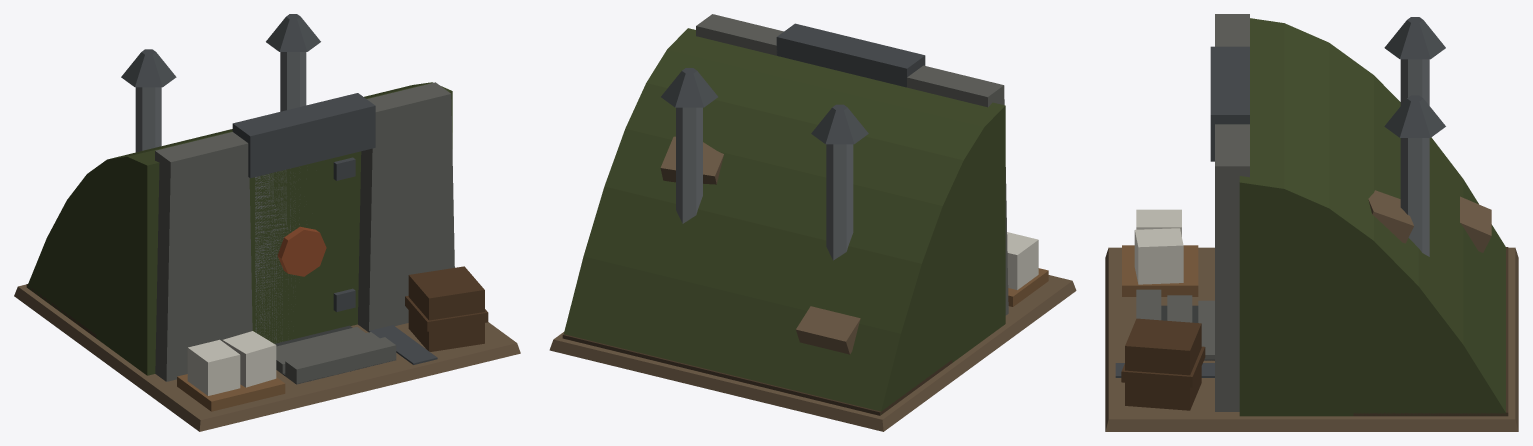
The model's file is cold_cellar_l2.glb.
3 renders of one model, left to right at view 1: azimuth 30°, elevation 25°; view 2: azimuth 150°, elevation 25°; view 3: azimuth 270°, elevation 25°, orthographic. The views are drawn at different scales.
Parts seen in each view (by area): view 1: cold_cellar_l2_mesh; view 2: cold_cellar_l2_mesh; view 3: cold_cellar_l2_mesh.
Part boxes in pixels (left/top/right/bottom): cold_cellar_l2_mesh: left=14, top=14, right=520, bottom=431; cold_cellar_l2_mesh: left=549, top=14, right=1076, bottom=431; cold_cellar_l2_mesh: left=1105, top=14, right=1518, bottom=431.
Bounding box in the file's own units: 2 × 1.53 × 2.
